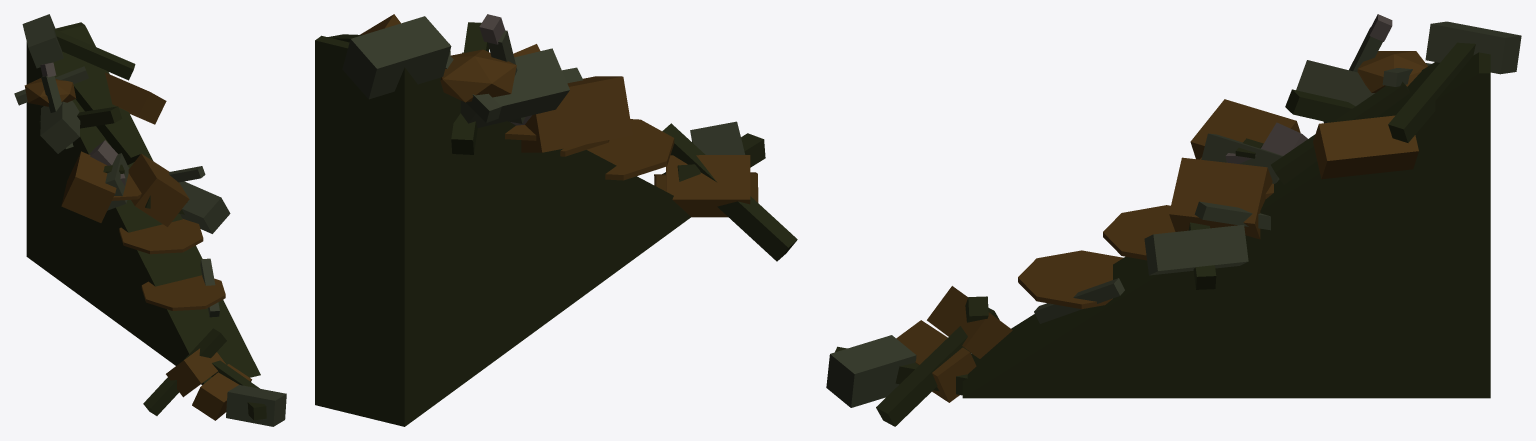
File: SM_PilaZombi_Altura4_s1_LOD0.fbx
3 renders of one model, left to right at view 1: azimuth 30°, elevation 25°; view 2: azimuth 150°, elevation 25°; view 3: azimuth 270°, elevation 25°, orthographic. The views are drawn at different scales.
Parts seen in each view (by area): view 1: SM_pila_zombis_v8_LOD0; view 2: SM_pila_zombis_v8_LOD0; view 3: SM_pila_zombis_v8_LOD0.
Part boxes in pixels (bbox=[...]): SM_pila_zombis_v8_LOD0: bbox=[14, 14, 286, 426]; SM_pila_zombis_v8_LOD0: bbox=[315, 14, 797, 426]; SM_pila_zombis_v8_LOD0: bbox=[826, 14, 1521, 426].
Bounding box in the file's own units: 1.43 × 2.32 × 3.92.
